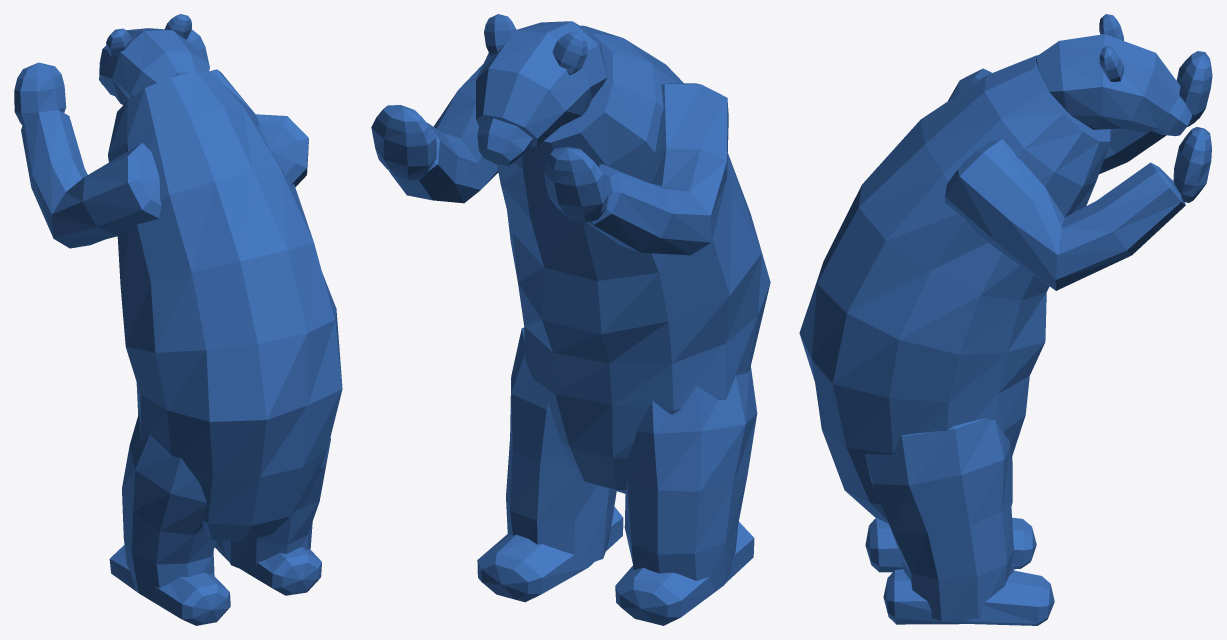
File: den-blue-bear.glb
3 renders of one model, left to right at view 1: azimuth 30°, elevation 25°; view 2: azimuth 150°, elevation 25°; view 3: azimuth 270°, elevation 25°, orthographic. The views are drawn at different scales.
Visible parts, largest first — view 1: I See What You Mean (Big Blue Bear); view 2: I See What You Mean (Big Blue Bear); view 3: I See What You Mean (Big Blue Bear).
Part boxes in pixels (x1,y1,x2,y2): I See What You Mean (Big Blue Bear): (14,14,342,625); I See What You Mean (Big Blue Bear): (371,14,770,625); I See What You Mean (Big Blue Bear): (799,14,1212,625).
Size of the model in its own units: 5.91 by 12.03 by 8.03.
